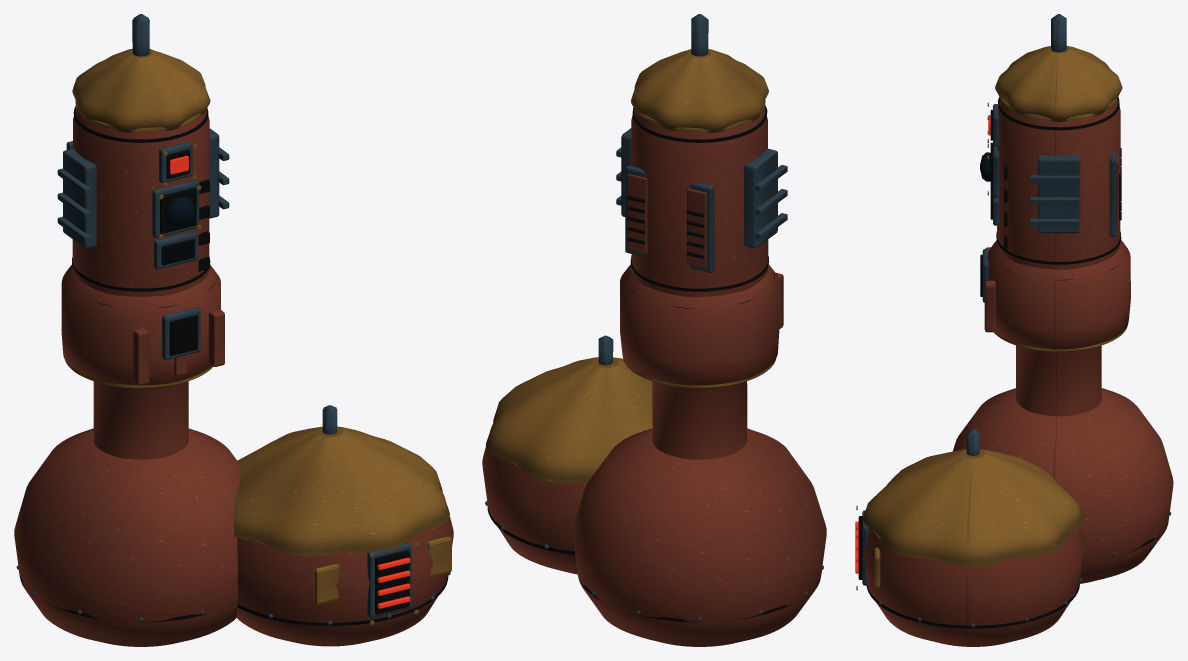
The picture shows the model from 3 angles, left to right: view 1: azimuth 30°, elevation 25°; view 2: azimuth 150°, elevation 25°; view 3: azimuth 270°, elevation 25°; orthographic projection. The views are drawn at different scales.
Parts seen in each view (by area): view 1: Rear support chamber, Service chamber onion cap, Tower upper column, Front service chamber, Tower lower console drum, Tower crown, Tower lower neck, Tower side fin -1, Consolidated Coral alloy fixtures, Consolidated Blue gray fittings fixtures, Service grille recess, Lower instrument recess (+15 smaller); view 2: Rear support chamber, Tower upper column, Service chamber onion cap, Tower lower console drum, Tower crown, Front service chamber, Tower lower neck, Consolidated Coral alloy fixtures, Consolidated Blue gray fittings fixtures, Tower side fin -1, Consolidated Dark recess fixtures, Tower finial (+4 smaller); view 3: Rear support chamber, Service chamber onion cap, Front service chamber, Tower upper column, Tower lower console drum, Tower crown, Tower lower neck, Tower side fin 1, Consolidated Blue gray fittings fixtures, Consolidated Coral alloy fixtures, Service lower seam, Tower finial (+2 smaller).
Part boxes in pixels (x1=…): Rear support chamber: x1=14, y1=428, x2=240, y2=646; Service chamber onion cap: x1=233, y1=426, x2=449, y2=556; Tower upper column: x1=72, y1=108, x2=209, y2=296; Front service chamber: x1=236, y1=492, x2=453, y2=646; Tower lower console drum: x1=61, y1=264, x2=220, y2=389; Tower crown: x1=72, y1=49, x2=210, y2=132; Tower lower neck: x1=93, y1=381, x2=188, y2=459; Tower side fin -1: x1=63, y1=148, x2=96, y2=248; Consolidated Coral alloy fixtures: x1=133, y1=309, x2=224, y2=385; Consolidated Blue gray fittings fixtures: x1=16, y1=141, x2=450, y2=625; Service grille recess: x1=375, y1=550, x2=409, y2=614; Lower instrument recess: x1=169, y1=315, x2=197, y2=355; Rear support chamber: x1=572, y1=428, x2=826, y2=646; Tower upper column: x1=631, y1=108, x2=768, y2=297; Service chamber onion cap: x1=485, y1=357, x2=652, y2=483; Tower lower console drum: x1=620, y1=264, x2=779, y2=389; Tower crown: x1=631, y1=49, x2=768, y2=132; Front service chamber: x1=482, y1=423, x2=587, y2=574; Tower lower neck: x1=652, y1=381, x2=747, y2=459; Consolidated Coral alloy fixtures: x1=627, y1=174, x2=783, y2=329; Consolidated Blue gray fittings fixtures: x1=485, y1=147, x2=823, y2=621; Tower side fin -1: x1=744, y1=148, x2=777, y2=248; Consolidated Dark recess fixtures: x1=627, y1=196, x2=704, y2=258; Tower finial: x1=691, y1=14, x2=708, y2=56; Rear support chamber: x1=952, y1=388, x2=1173, y2=583; Service chamber onion cap: x1=862, y1=449, x2=1083, y2=566; Front service chamber: x1=863, y1=527, x2=1084, y2=646; Tower upper column: x1=997, y1=99, x2=1120, y2=269; Tower lower console drum: x1=987, y1=240, x2=1130, y2=352; Tower crown: x1=995, y1=46, x2=1122, y2=121; Tower lower neck: x1=1016, y1=345, x2=1101, y2=416; Tower side fin 1: x1=1037, y1=155, x2=1080, y2=233; Consolidated Blue gray fittings fixtures: x1=878, y1=151, x2=1171, y2=627; Consolidated Coral alloy fixtures: x1=984, y1=154, x2=1118, y2=332; Service lower seam: x1=866, y1=583, x2=1079, y2=628; Tower finial: x1=1051, y1=14, x2=1066, y2=52.
Size of the model in its own units: 2.18 by 3.49 by 1.86.
Materials: 6 (5 with a texture image).
